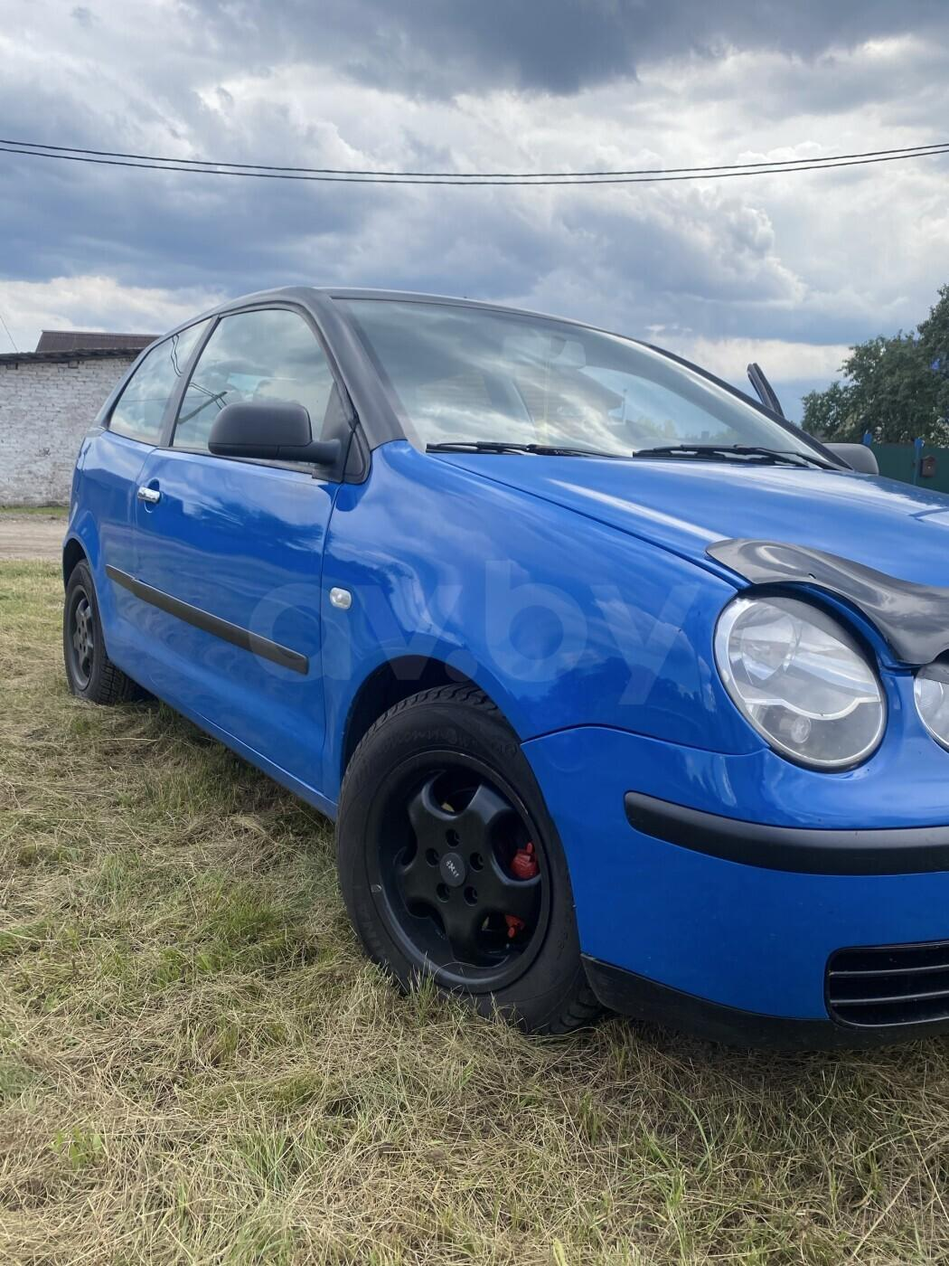Polo_2001-2005: (45, 283, 949, 1067)
